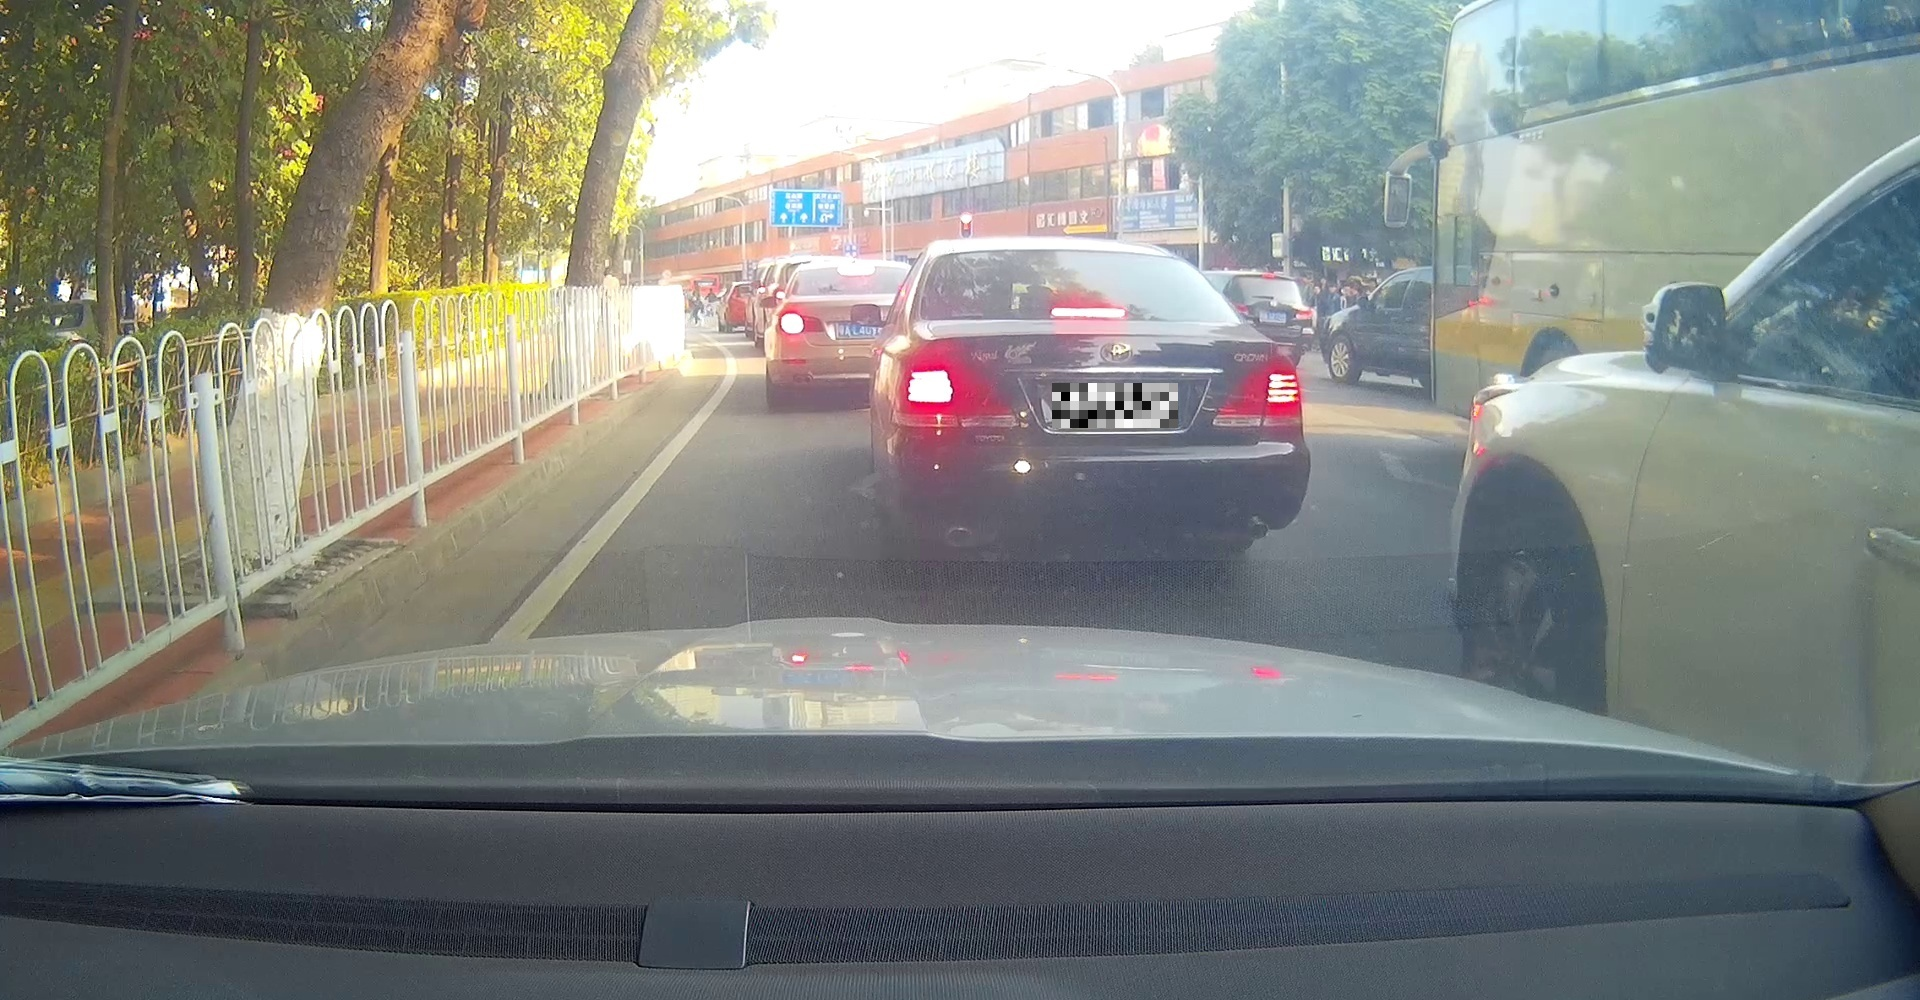L_light: (899, 362, 993, 415)
R_light: (1224, 362, 1302, 420)
T_light: (1049, 307, 1126, 319)
day-brake: (893, 240, 1310, 552)
plate_1: (1051, 383, 1178, 428)
